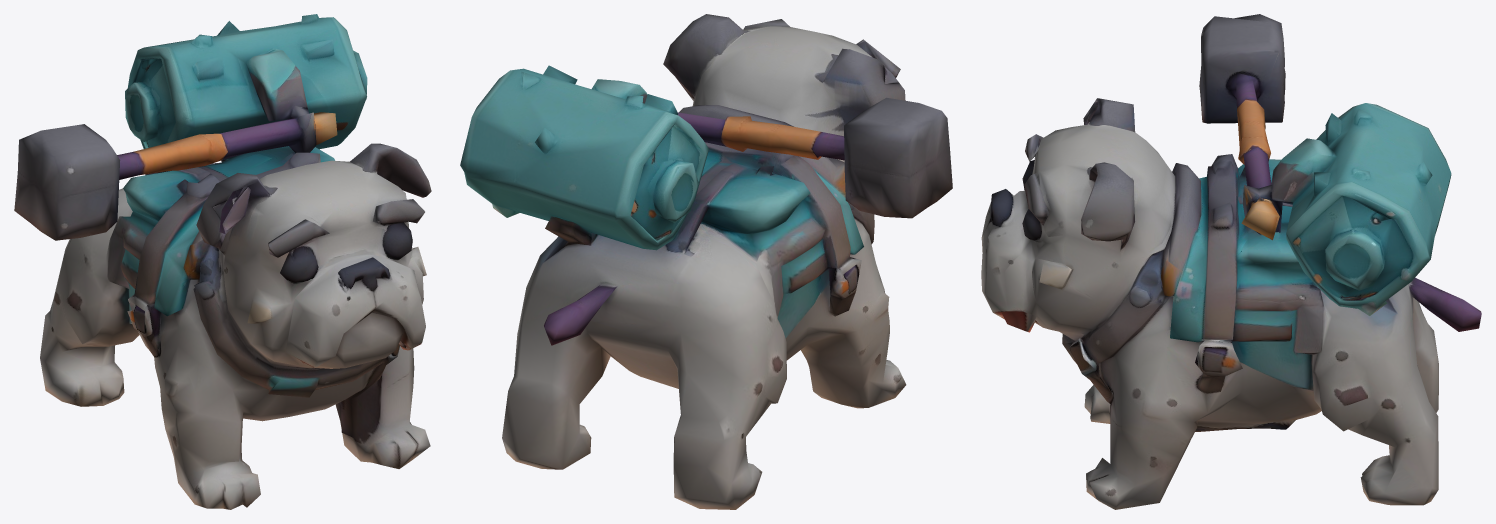
The model's file is utility_bonk_dog_3000.glb.
3 views of the same model, side by side, from view 1: azimuth 30°, elevation 25°; view 2: azimuth 150°, elevation 25°; view 3: azimuth 270°, elevation 25° (orthographic). The views are drawn at different scales.
Visible parts, largest first — view 1: tripo_node_49cf11fa-22dd-4250-97db-24335597c43d; view 2: tripo_node_49cf11fa-22dd-4250-97db-24335597c43d; view 3: tripo_node_49cf11fa-22dd-4250-97db-24335597c43d.
Part boxes in pixels (x1=…): tripo_node_49cf11fa-22dd-4250-97db-24335597c43d: x1=14, y1=14, x2=431, y2=509; tripo_node_49cf11fa-22dd-4250-97db-24335597c43d: x1=460, y1=14, x2=952, y2=509; tripo_node_49cf11fa-22dd-4250-97db-24335597c43d: x1=981, y1=14, x2=1481, y2=509.
Bounding box in the file's own units: 0.8607 × 0.7643 × 0.9776.
Materials: 1 (1 with a texture image).
